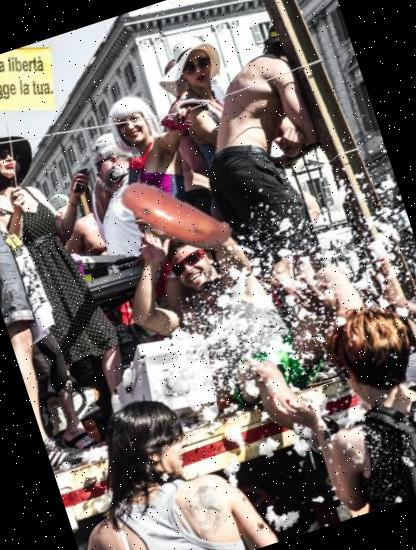Banana: (98, 145, 248, 294)
